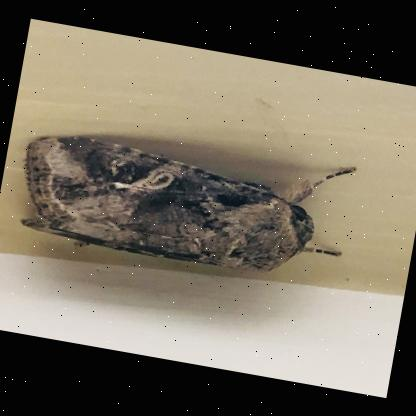Fall Armyworm Moth: (5, 105, 359, 294)
